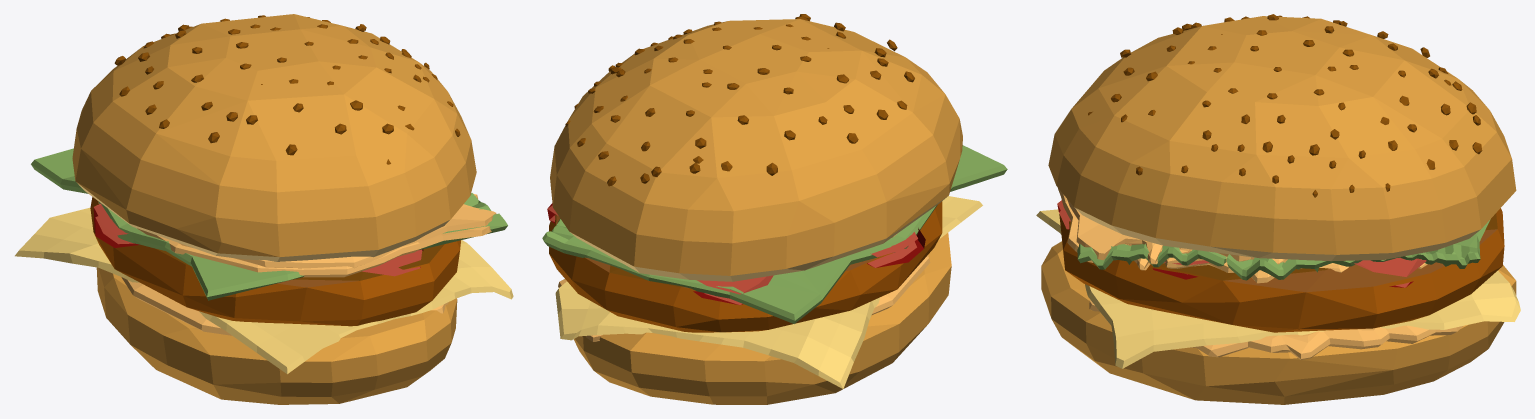
The model's file is burger_low_poly.glb.
3 views of the same model, side by side, from view 1: azimuth 30°, elevation 25°; view 2: azimuth 150°, elevation 25°; view 3: azimuth 270°, elevation 25° (orthographic). The views are drawn at different scales.
Parts seen in each view (by area): view 1: Pain haut_7, Circle_0, Stek_9, Fromage_5, Salade_8, Icosphere_6, Circle.002_4, Circle.001_3, Autres_1, Circle.003_2; view 2: Pain haut_7, Circle_0, Stek_9, Fromage_5, Salade_8, Icosphere_6, Autres_1, Circle.003_2; view 3: Pain haut_7, Circle_0, Stek_9, Fromage_5, Salade_8, Circle.003_2, Icosphere_6, Circle.001_3, Circle.002_4, Autres_1.
Part boxes in pixels (bbox=[...]): Pain haut_7: bbox=[72, 14, 476, 261]; Circle_0: bbox=[96, 267, 457, 404]; Stek_9: bbox=[90, 197, 460, 326]; Fromage_5: bbox=[15, 207, 513, 374]; Salade_8: bbox=[31, 148, 507, 300]; Icosphere_6: bbox=[114, 15, 460, 164]; Circle.002_4: bbox=[136, 226, 491, 277]; Circle.001_3: bbox=[179, 193, 496, 268]; Autres_1: bbox=[93, 203, 423, 276]; Circle.003_2: bbox=[121, 277, 448, 335]; Pain haut_7: bbox=[550, 19, 962, 281]; Circle_0: bbox=[574, 233, 951, 404]; Stek_9: bbox=[549, 201, 942, 332]; Fromage_5: bbox=[555, 196, 982, 388]; Salade_8: bbox=[542, 145, 1007, 323]; Icosphere_6: bbox=[565, 14, 914, 186]; Autres_1: bbox=[547, 203, 925, 305]; Circle.003_2: bbox=[558, 255, 930, 341]; Pain haut_7: bbox=[1048, 16, 1516, 261]; Circle_0: bbox=[1041, 241, 1516, 404]; Stek_9: bbox=[1059, 208, 1504, 332]; Fromage_5: bbox=[1036, 209, 1520, 368]; Salade_8: bbox=[1077, 219, 1490, 280]; Circle.003_2: bbox=[1089, 299, 1463, 359]; Icosphere_6: bbox=[1088, 14, 1482, 197]; Circle.001_3: bbox=[1067, 199, 1287, 264]; Circle.002_4: bbox=[1058, 188, 1427, 283]; Autres_1: bbox=[1057, 200, 1426, 287].
Size of the model in its own units: 1.39 by 1.14 by 1.66.
